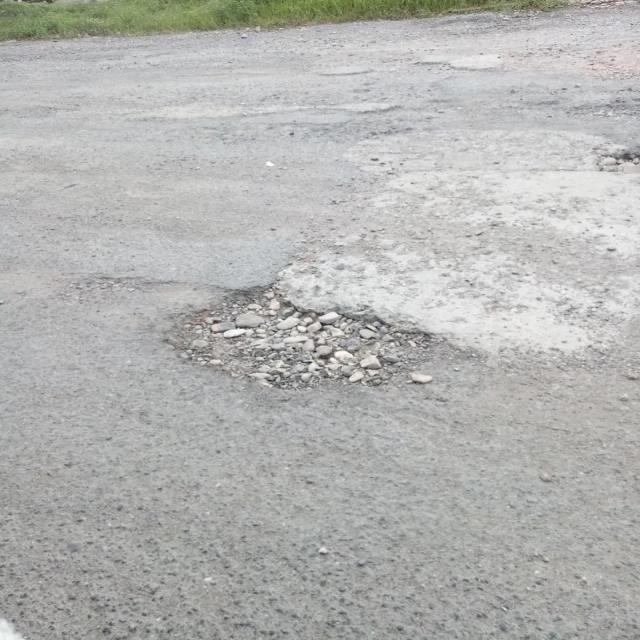Pothole: (165, 277, 478, 391), (570, 146, 640, 180)
